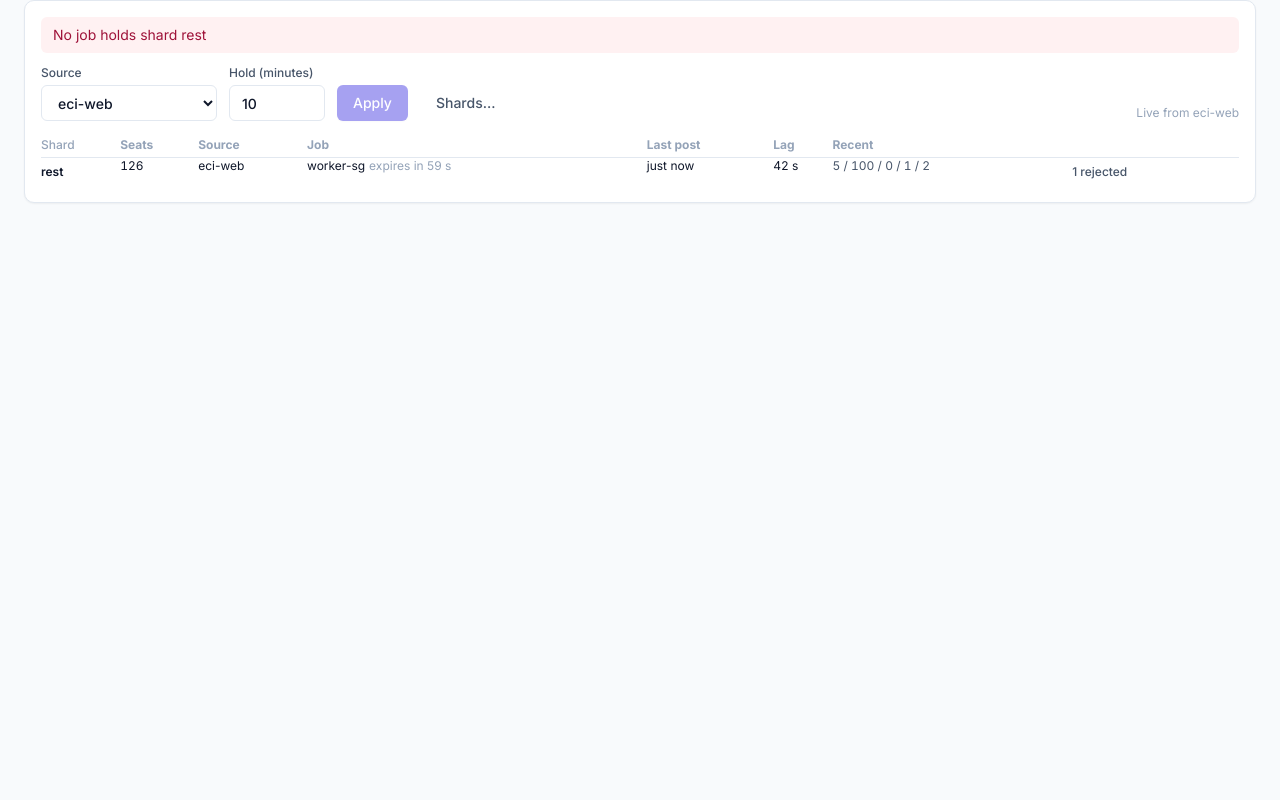
Test: FeedPanel › Other… reveals a text input for a new source
The width and height of the screenshot is (1280, 800).
Select "Other…" in the dropdown labelled "Source". click: (129, 103)
box: [41, 85, 217, 121]
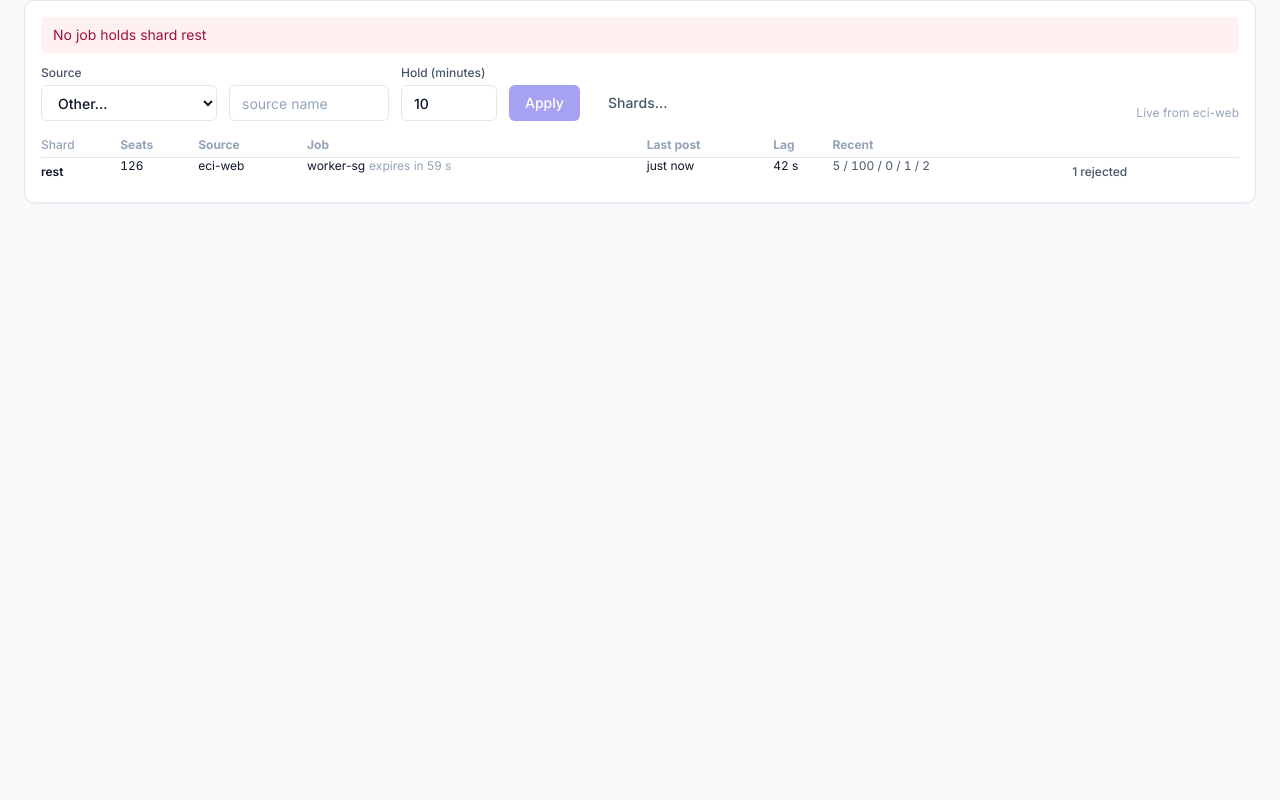
Type "ecinet" into the field named "Other source". click: (309, 103)
box: [229, 85, 389, 121]
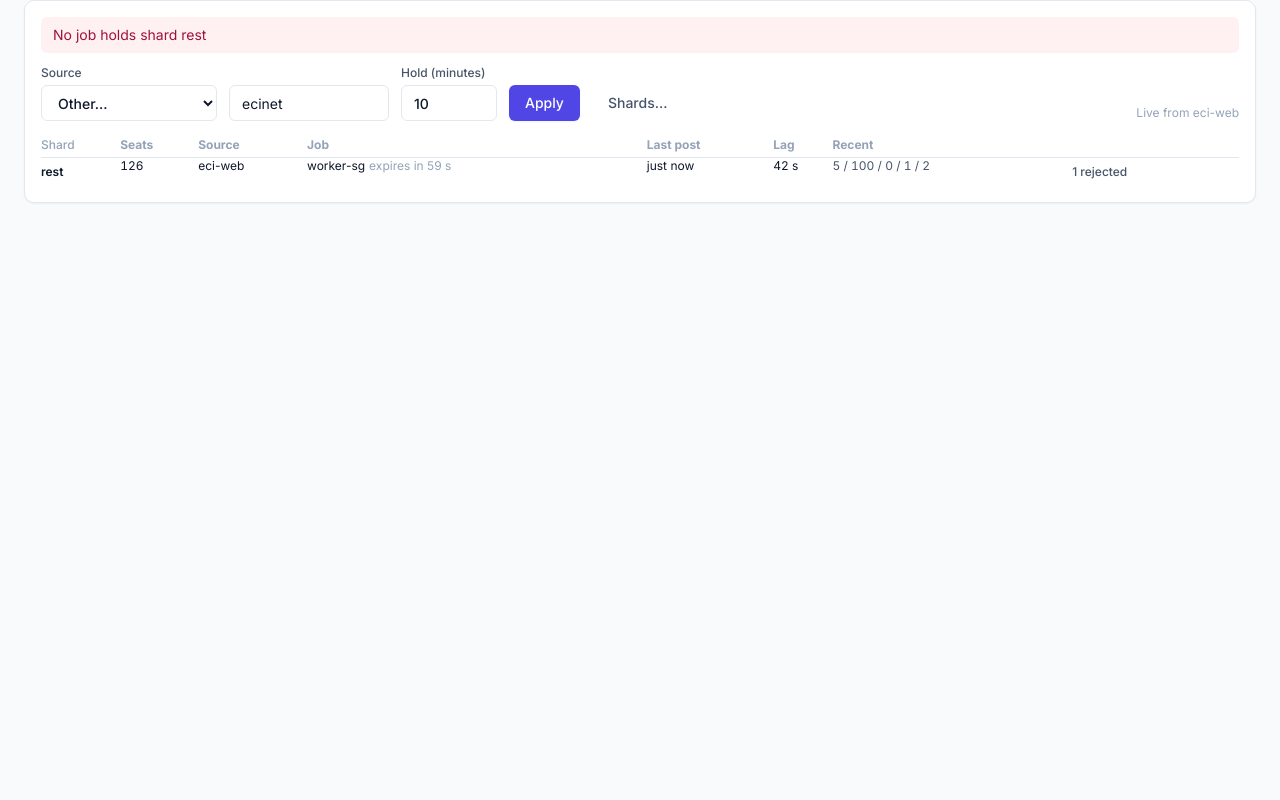
Click the button "Apply". click: (544, 103)
box: [509, 85, 580, 121]
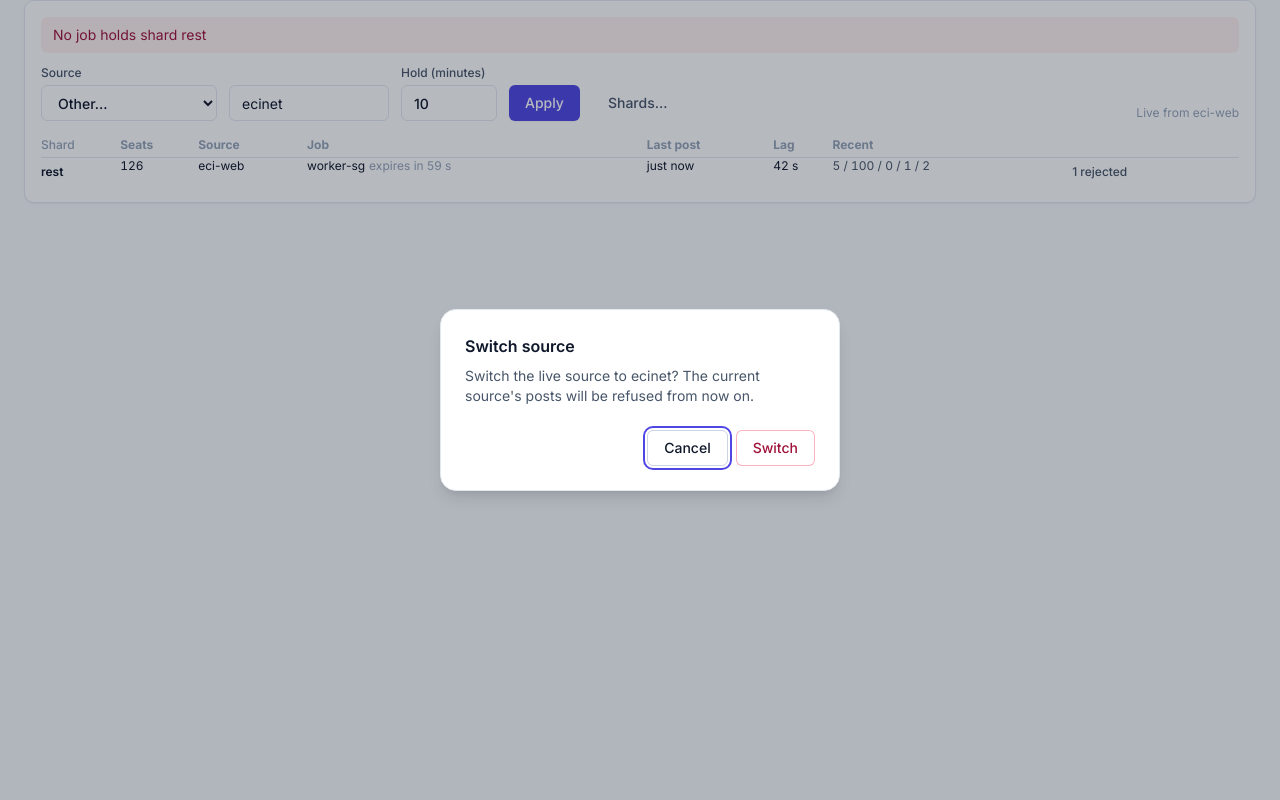
Expected: the dialog shows "Switch the live source to ecinet", [465, 367, 760, 404]
